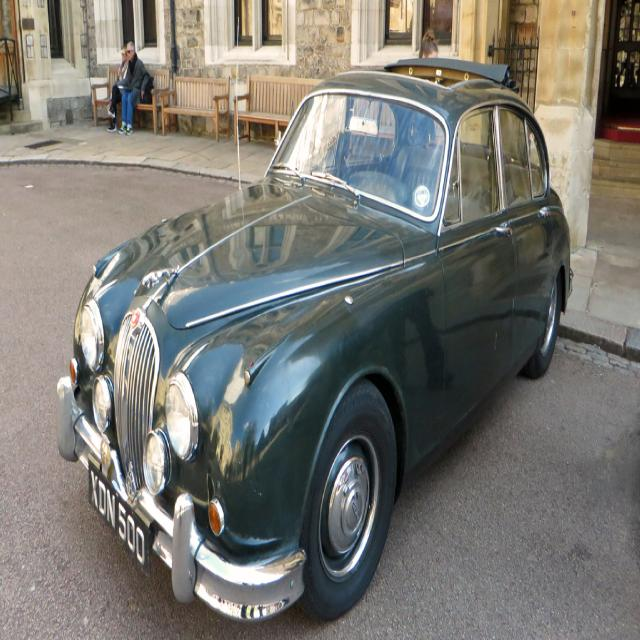Car: (56, 57, 574, 624)
